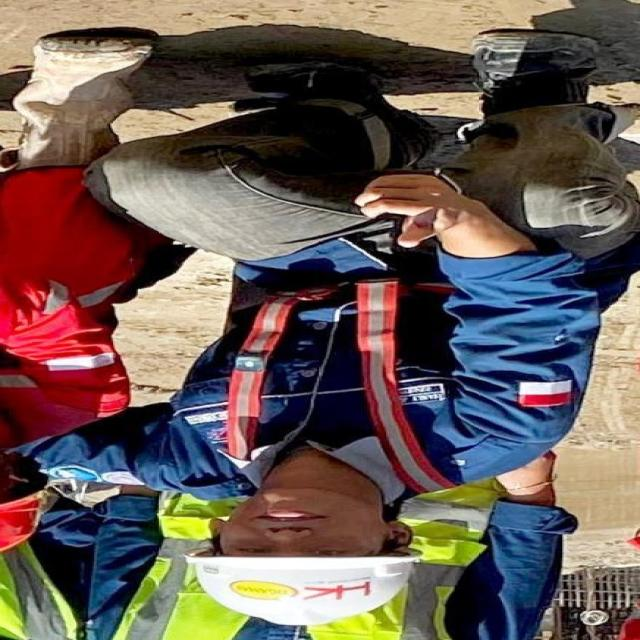safetyhelmet: (162, 494, 420, 630)
